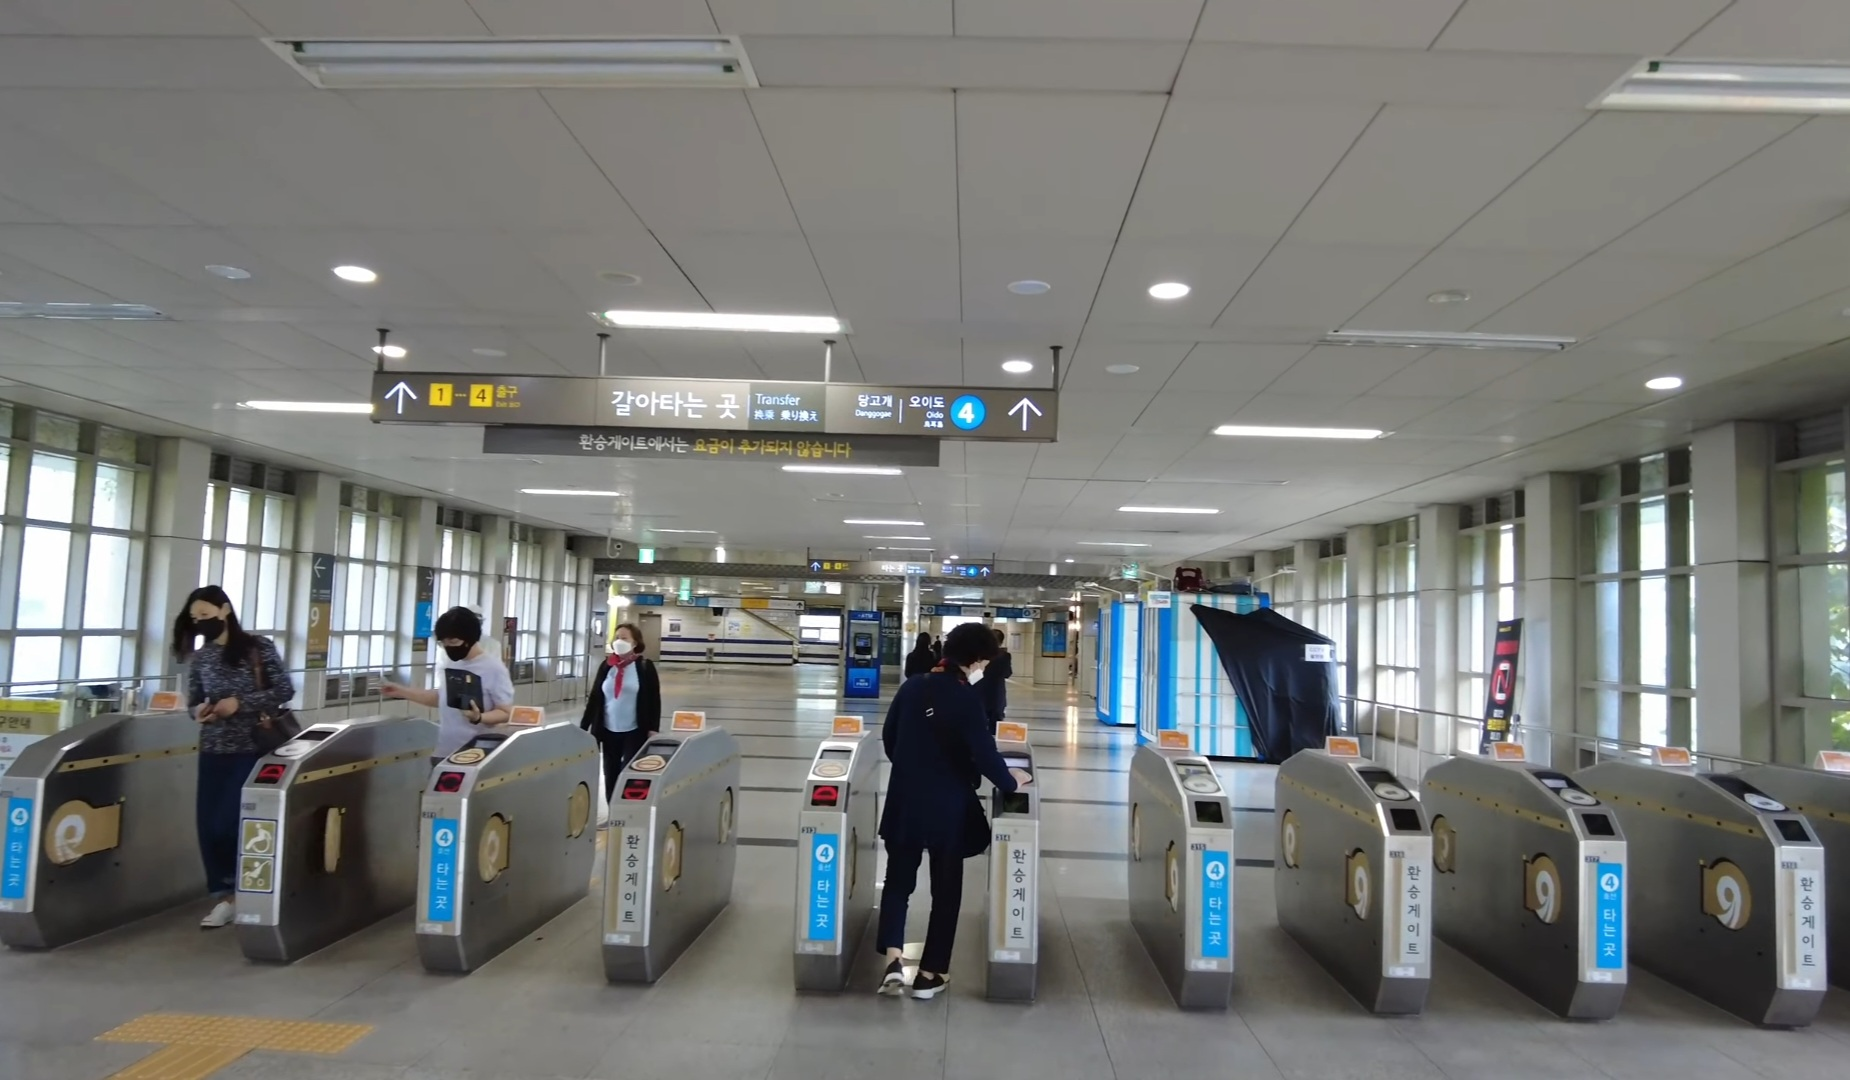signBoard: (366, 350, 1067, 445)
